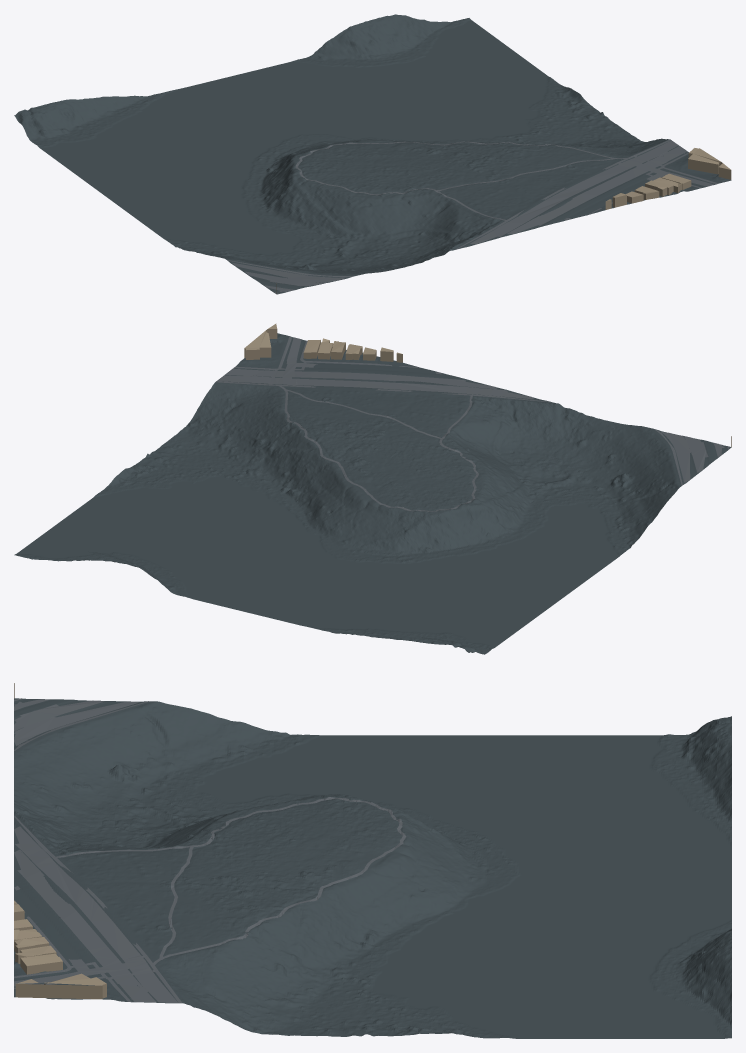
File: epsg26910-1419-10874.lod0.glb
3 renders of one model, top to bottom at view 1: azimuth 30°, elevation 25°; view 2: azimuth 150°, elevation 25°; view 3: azimuth 270°, elevation 25°, orthographic. The views are drawn at different scales.
Visible parts, largest first — view 1: epsg26910-1419-10874-lod0; view 2: epsg26910-1419-10874-lod0; view 3: epsg26910-1419-10874-lod0.
Boxes of the visible parts, <box> form: epsg26910-1419-10874-lod0: <box>14,14,731,294</box>; epsg26910-1419-10874-lod0: <box>14,323,731,654</box>; epsg26910-1419-10874-lod0: <box>14,683,731,1038</box>.
Size of the model in its own units: 384 by 33.43 by 384.
